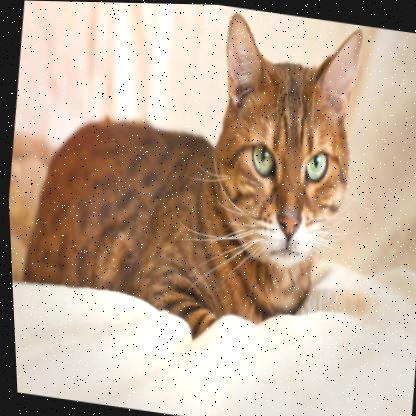cat: (4, 0, 398, 376)
